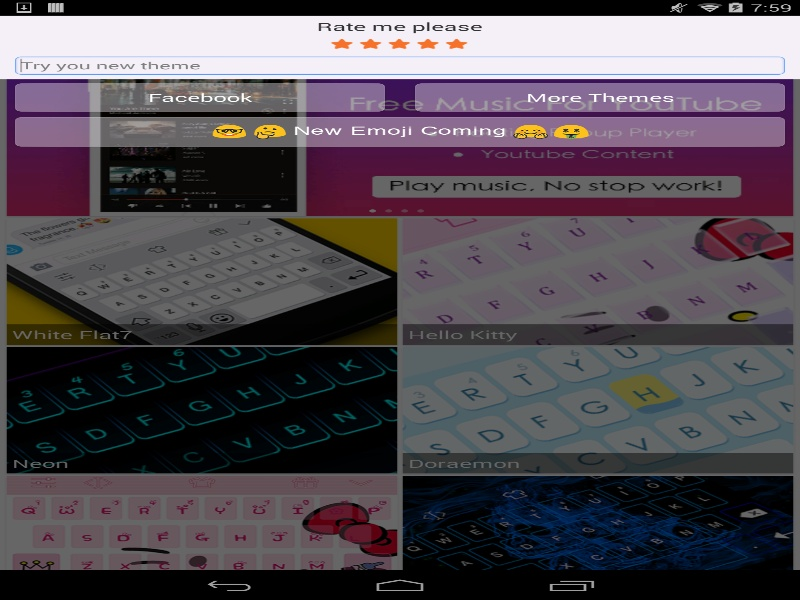Button: (13, 82, 386, 112), (413, 82, 786, 112)
Input: (13, 55, 786, 75)
